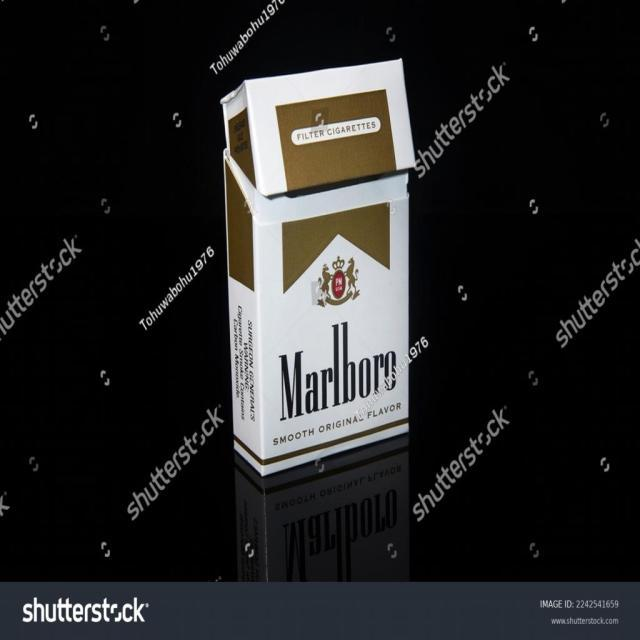smoking: (221, 58, 426, 586)
